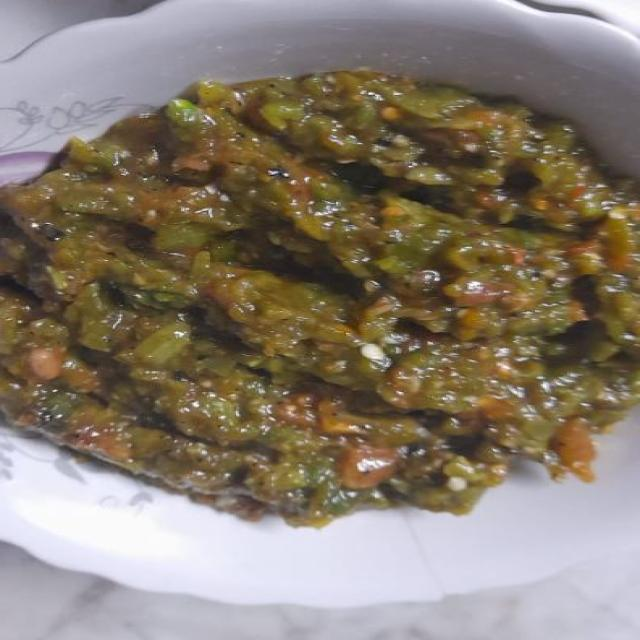Salade mechweya: (0, 4, 640, 532)
